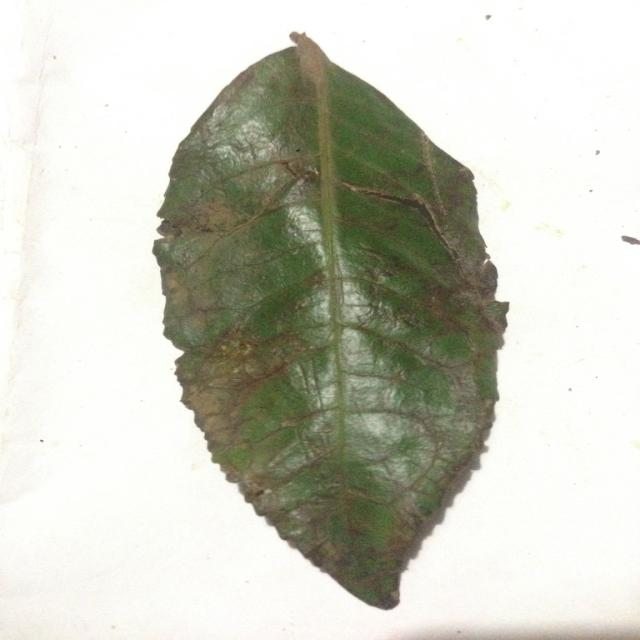Red Leaf Spot: (139, 30, 517, 609)
